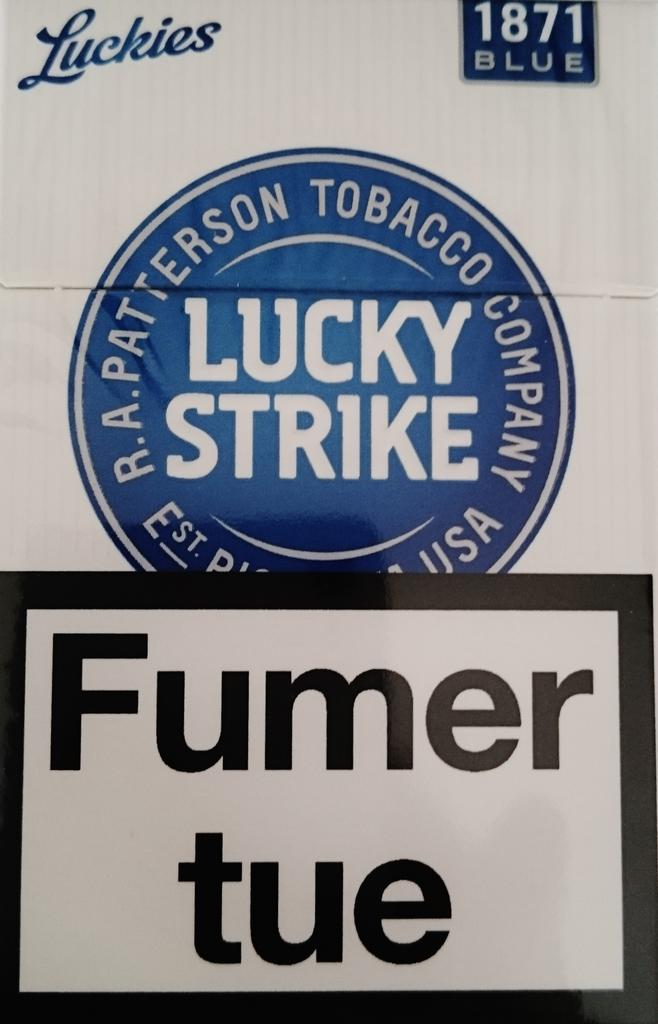lucky_strike_blue: (4, 2, 658, 1023)
